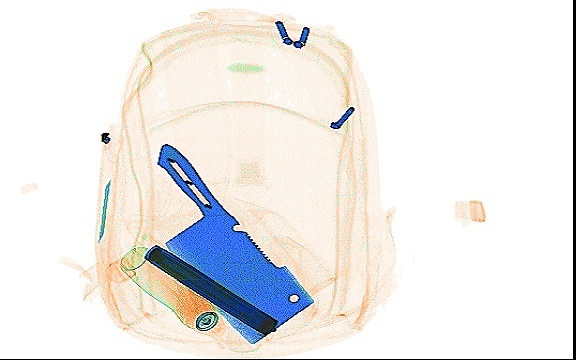knife: (155, 140, 315, 343)
pressure: (116, 243, 227, 339)
